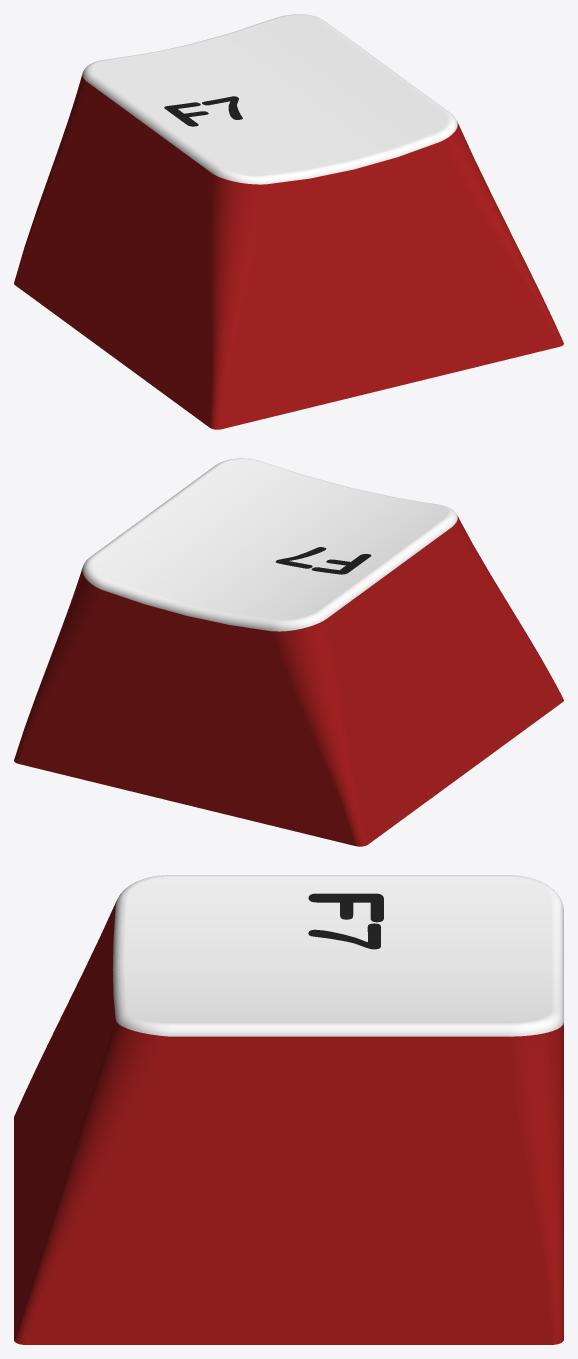
3 views of the same model, one above another, from view 1: azimuth 30°, elevation 25°; view 2: azimuth 150°, elevation 25°; view 3: azimuth 270°, elevation 25° (orthographic). The views are drawn at different scales.
Parts seen in each view (by area): view 1: Body1; view 2: Body1; view 3: Body1.
Part boxes in pixels (bbox=[...]): Body1: bbox=[14, 14, 563, 429]; Body1: bbox=[14, 458, 563, 846]; Body1: bbox=[14, 875, 563, 1344].
Bounding box in the file's own units: 18 × 10.07 × 18.
